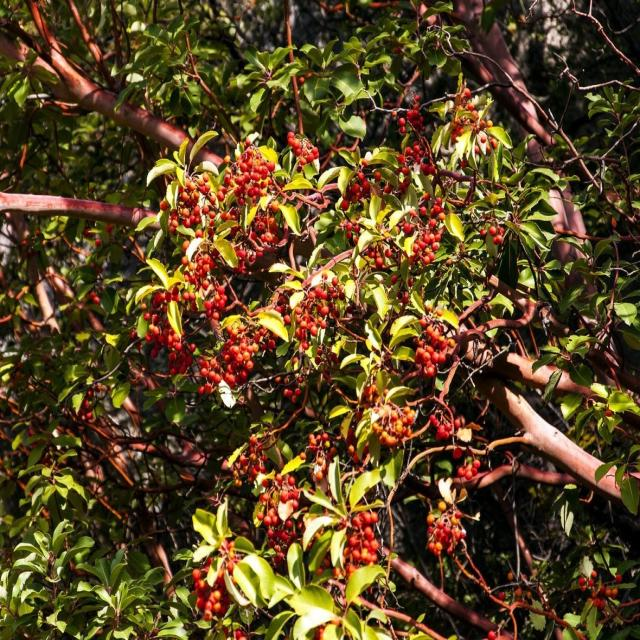Medicinal-Sandalwood: (15, 0, 640, 640)
